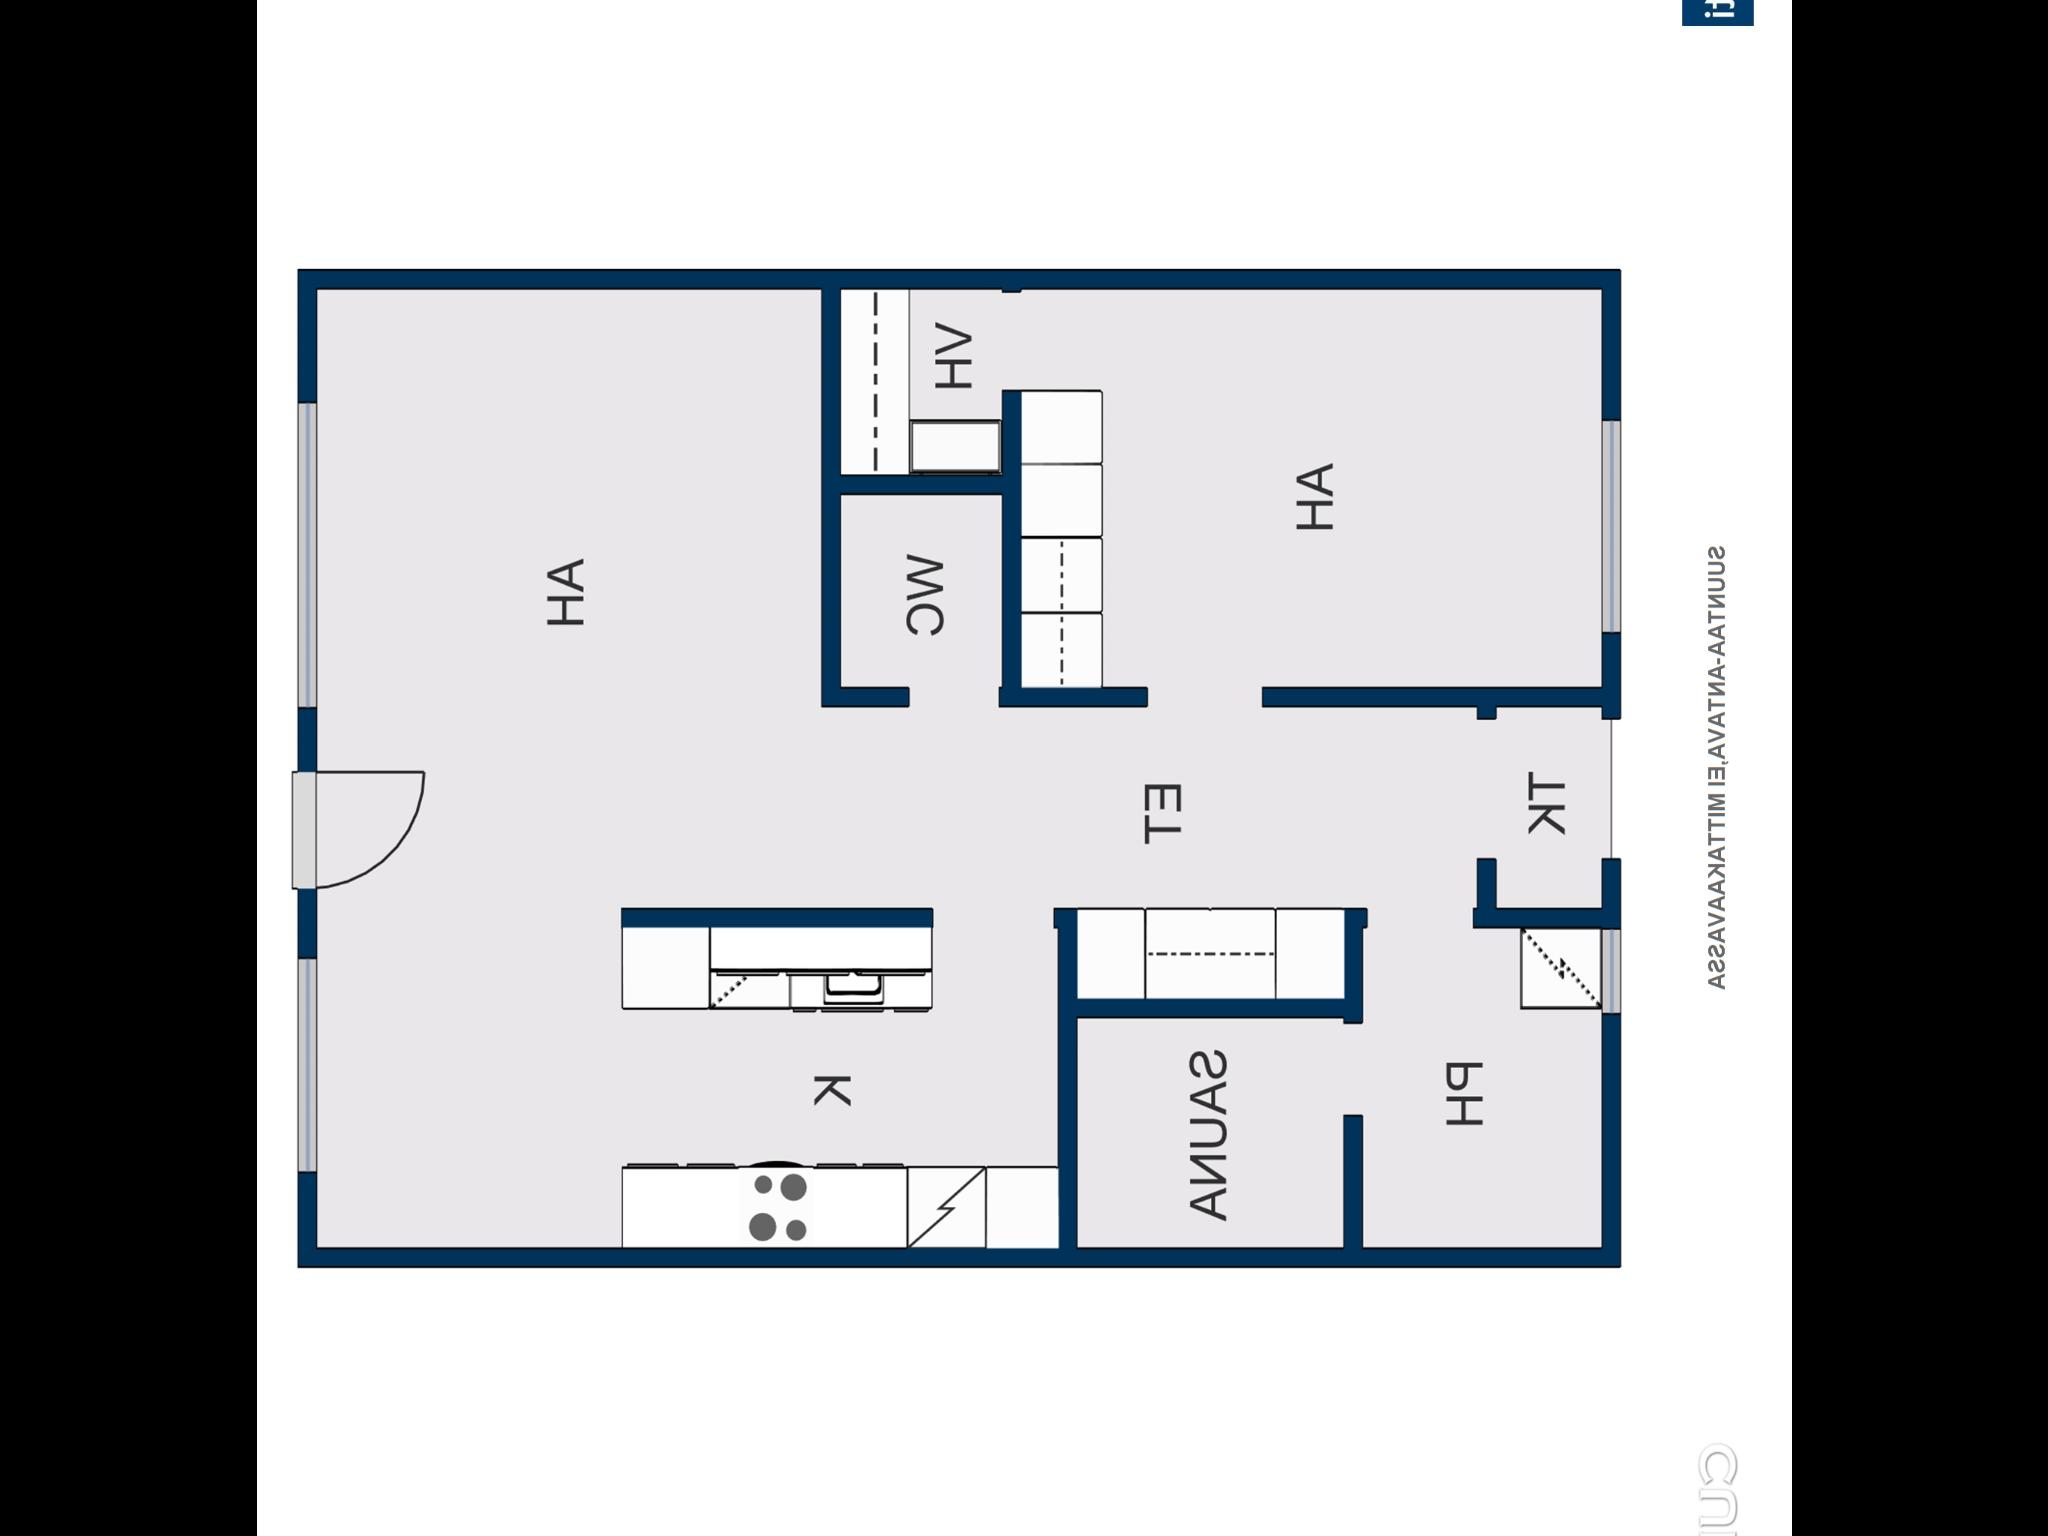door: (289, 762, 434, 894)
window: (289, 390, 332, 726), (290, 936, 327, 1189), (1588, 408, 1625, 649), (1596, 916, 1630, 1021)
